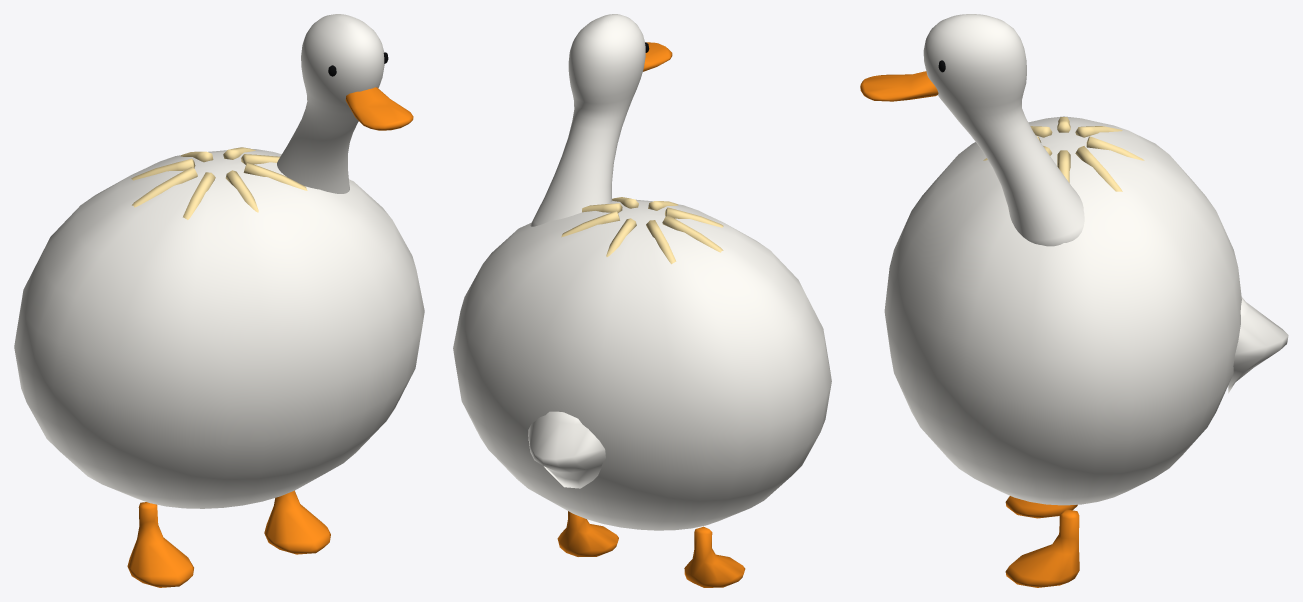
The model's file is duck-steamedbread.glb.
3 renders of one model, left to right at view 1: azimuth 30°, elevation 25°; view 2: azimuth 150°, elevation 25°; view 3: azimuth 270°, elevation 25°, orthographic. The views are drawn at different scales.
Visible parts, largest first — view 1: duck-steamedbread; view 2: duck-steamedbread; view 3: duck-steamedbread.
Part boxes in pixels (<box>): duck-steamedbread: <box>14,14,424,587</box>; duck-steamedbread: <box>453,14,831,587</box>; duck-steamedbread: <box>860,14,1288,587</box>.
Size of the model in its own units: 0.7146 by 1 by 0.6824.
Materials: 1 (1 with a texture image).
